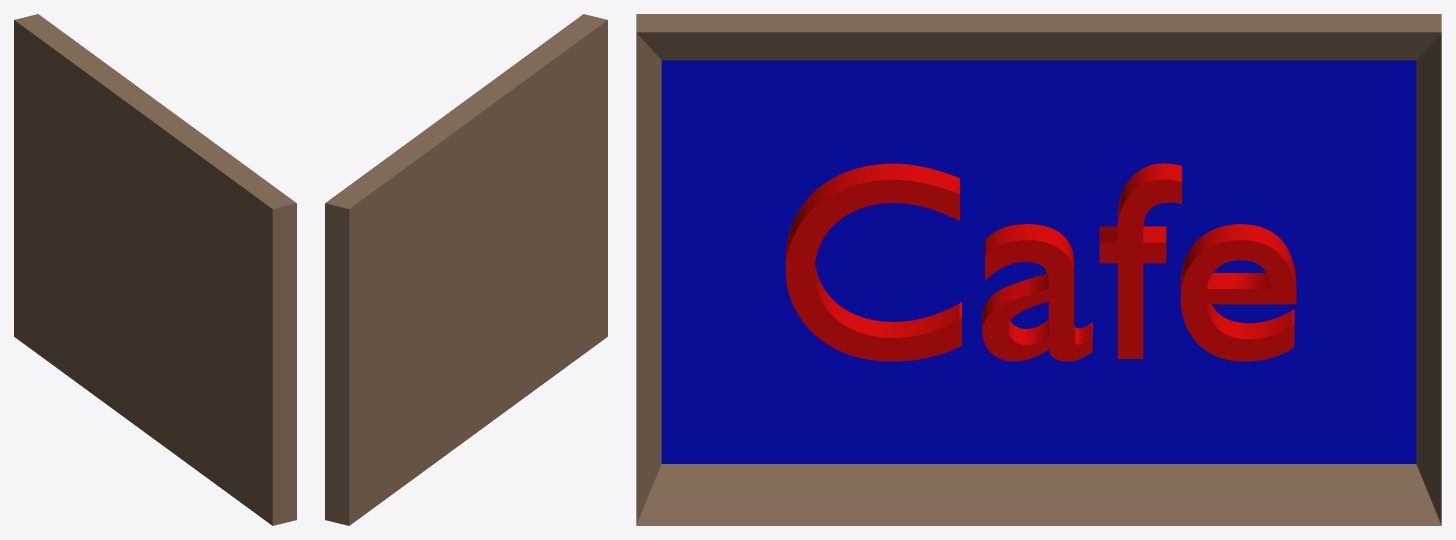
The model's file is Sign_Cafe.fbx.
3 renders of one model, left to right at view 1: azimuth 30°, elevation 25°; view 2: azimuth 150°, elevation 25°; view 3: azimuth 270°, elevation 25°, orthographic. The views are drawn at different scales.
Visible parts, largest first — view 1: Cafe; view 2: Cafe; view 3: Cafe, Text.002.
Boxes of the visible parts, <box> form: Cafe: <box>14,14,296,525</box>; Cafe: <box>325,14,607,525</box>; Cafe: <box>636,14,1441,525</box>; Text.002: <box>785,163,1296,361</box>.
Bounding box in the file's own units: 17.78 × 200 × 296.
